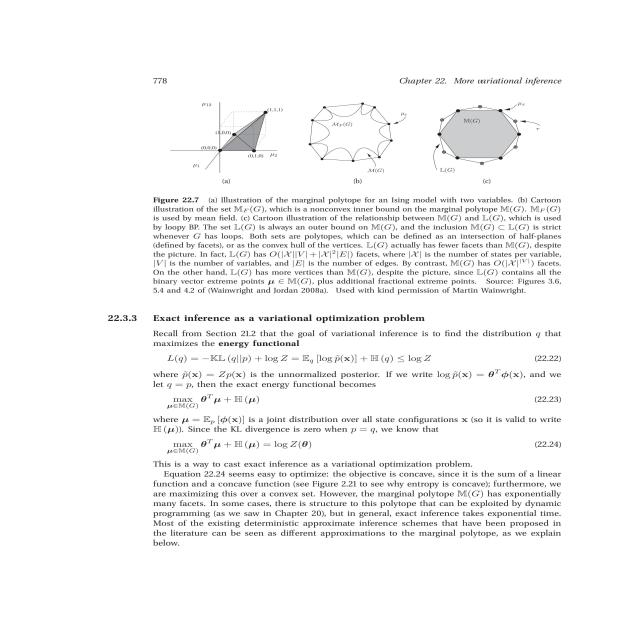diagram: (72, 95, 564, 307)
